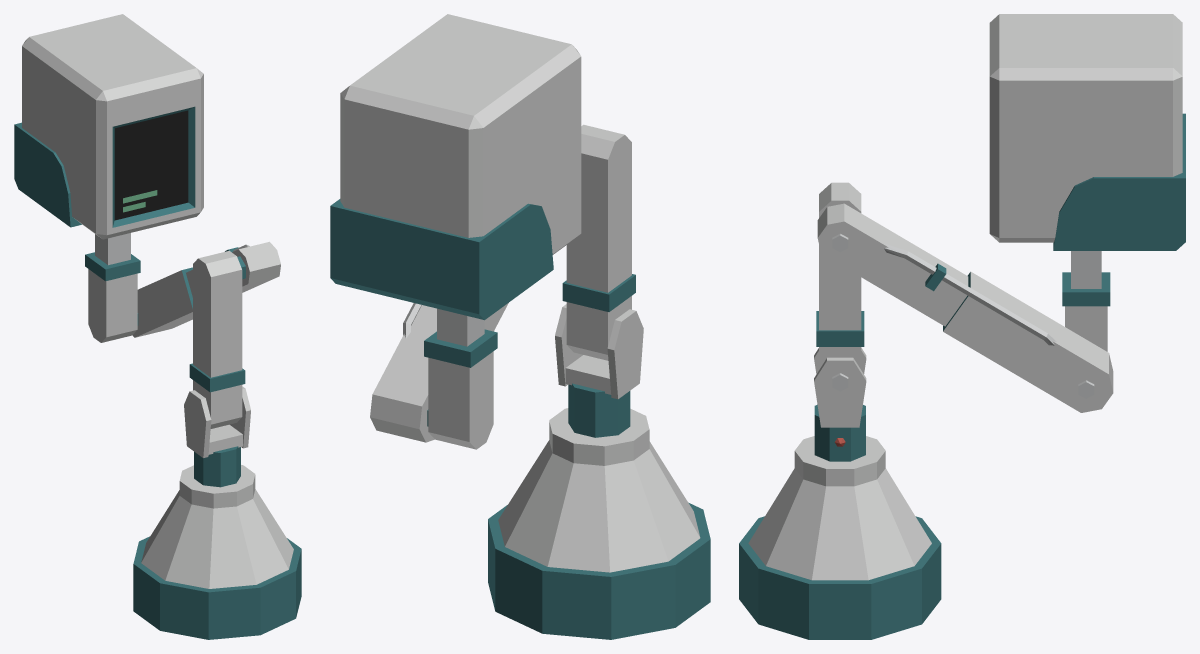
File: fume-extraction-arm-ceiling-c5bd3e.glb
3 views of the same model, side by side, from view 1: azimuth 30°, elevation 25°; view 2: azimuth 150°, elevation 25°; view 3: azimuth 270°, elevation 25° (orthographic). The views are drawn at different scales.
Visible parts, largest first — view 1: housing, hood, forearm, drop-tube, boom; view 2: housing, hood, forearm, drop-tube, boom; view 3: housing, hood, boom, forearm, drop-tube.
Part boxes in pixels (x1,y1,x2,y2): housing: [14, 14, 203, 239]; hood: [133, 386, 301, 639]; forearm: [189, 250, 245, 428]; drop-tube: [85, 233, 140, 342]; boom: [132, 241, 280, 337]; housing: [330, 14, 581, 320]; hood: [488, 304, 710, 639]; forearm: [562, 124, 635, 360]; drop-tube: [424, 308, 497, 449]; boom: [370, 303, 508, 442]; housing: [989, 14, 1185, 250]; hood: [739, 348, 941, 639]; boom: [817, 203, 1113, 412]; forearm: [816, 182, 864, 369]; drop-tube: [1062, 251, 1110, 351].
Bounding box in the file's own units: 0.4984 × 1.6 × 1.16.
